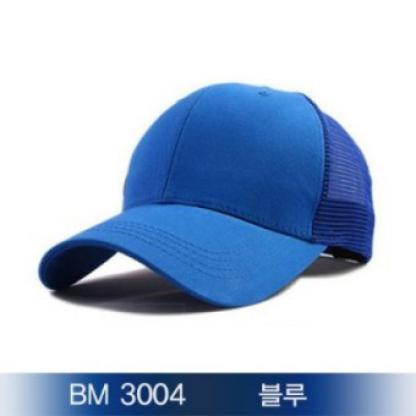cap: (31, 72, 384, 320)
